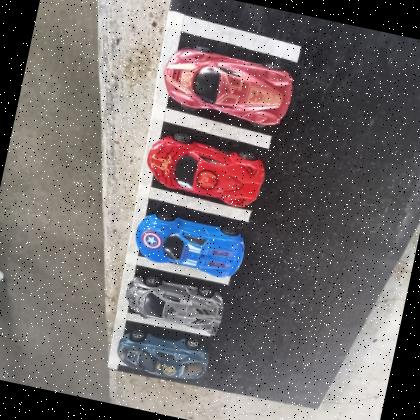Car: (156, 39, 297, 134), (142, 128, 271, 212), (130, 210, 248, 282), (121, 271, 228, 338), (112, 324, 212, 386)
